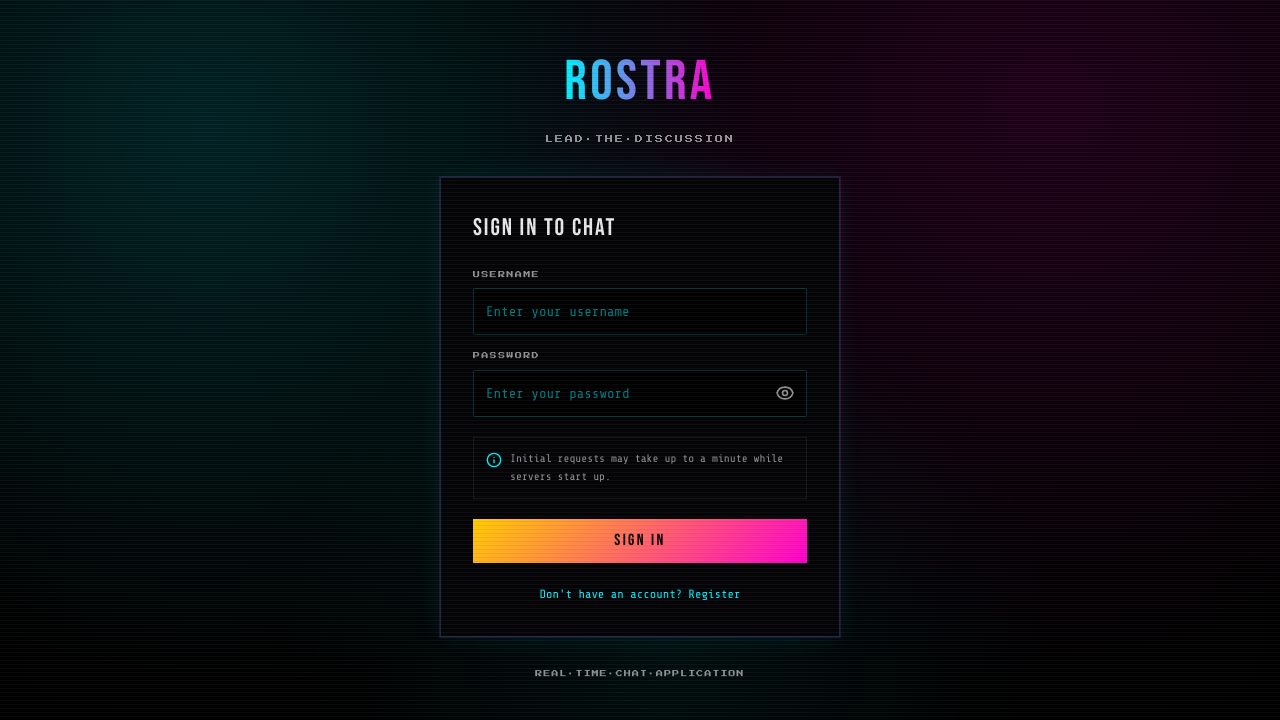
Login › shows API error message for invalid credentials
Type "alice" into the field labelled "USERNAME" at (640, 312), box [473,288,807,335]
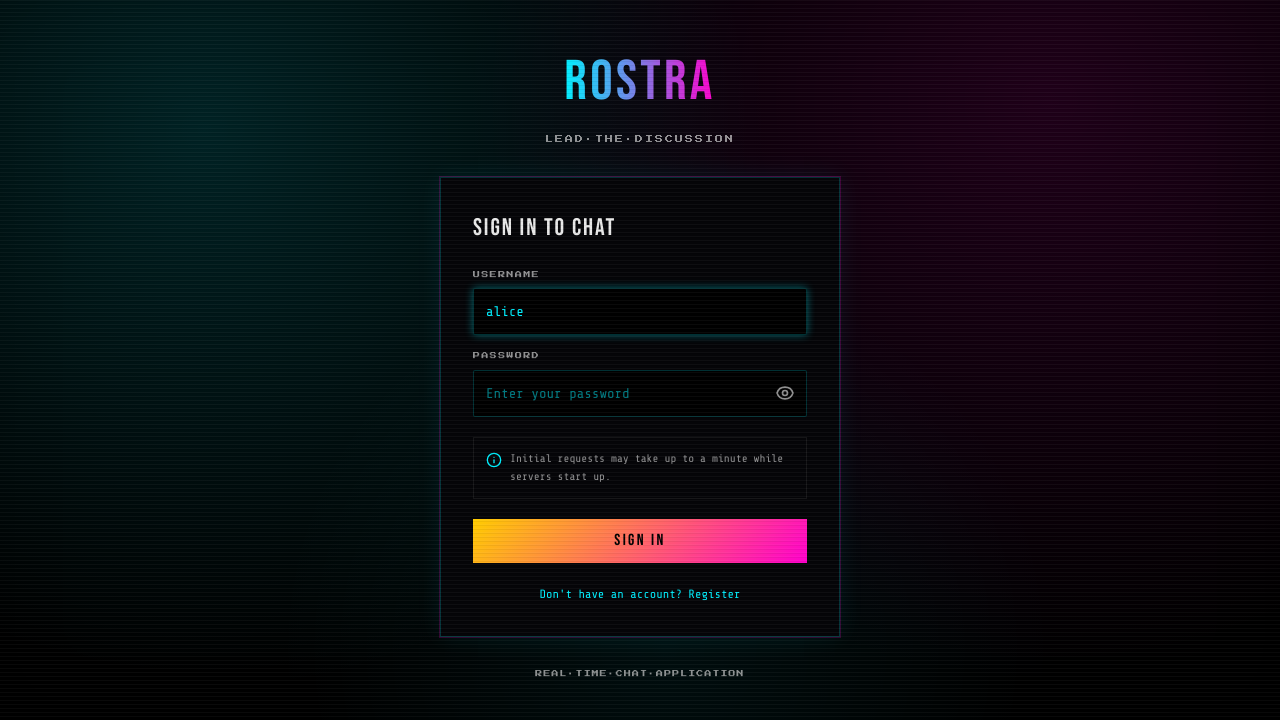
Type "wrong" into the password field labelled "PASSWORD" at (640, 393), box [473,370,807,417]
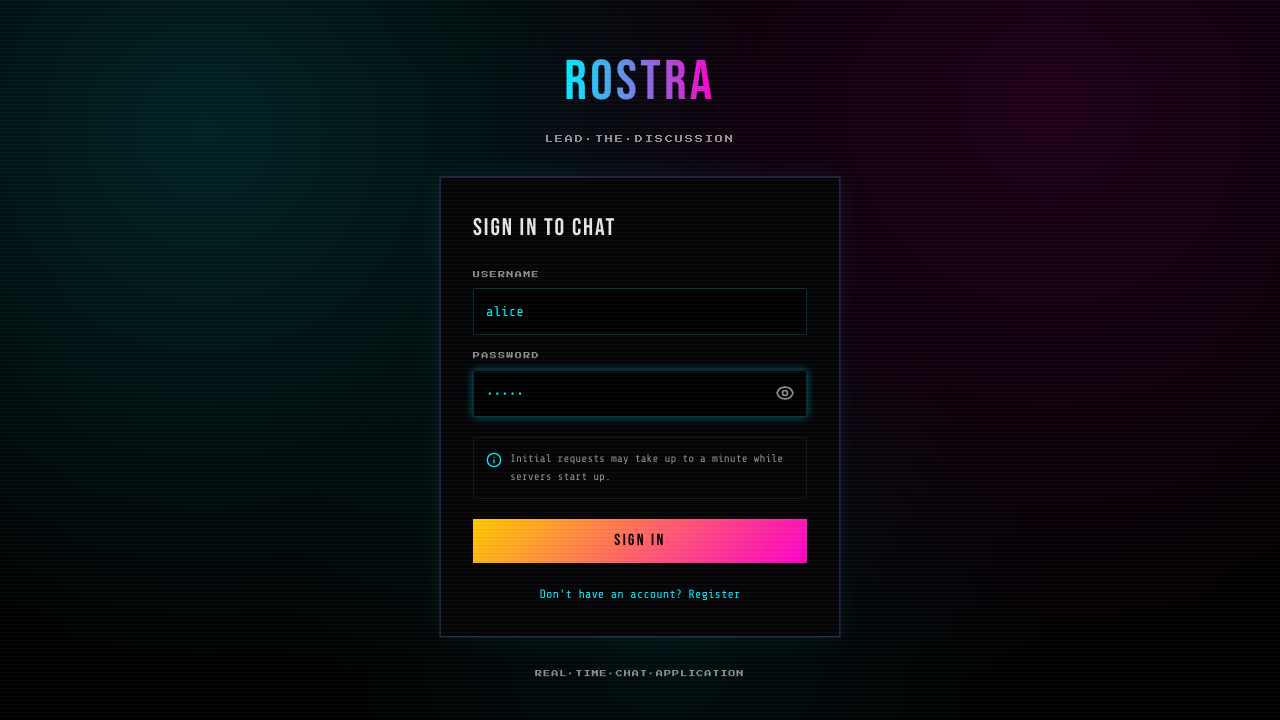
Click the button "SIGN IN" at (640, 541), box [473,519,807,563]
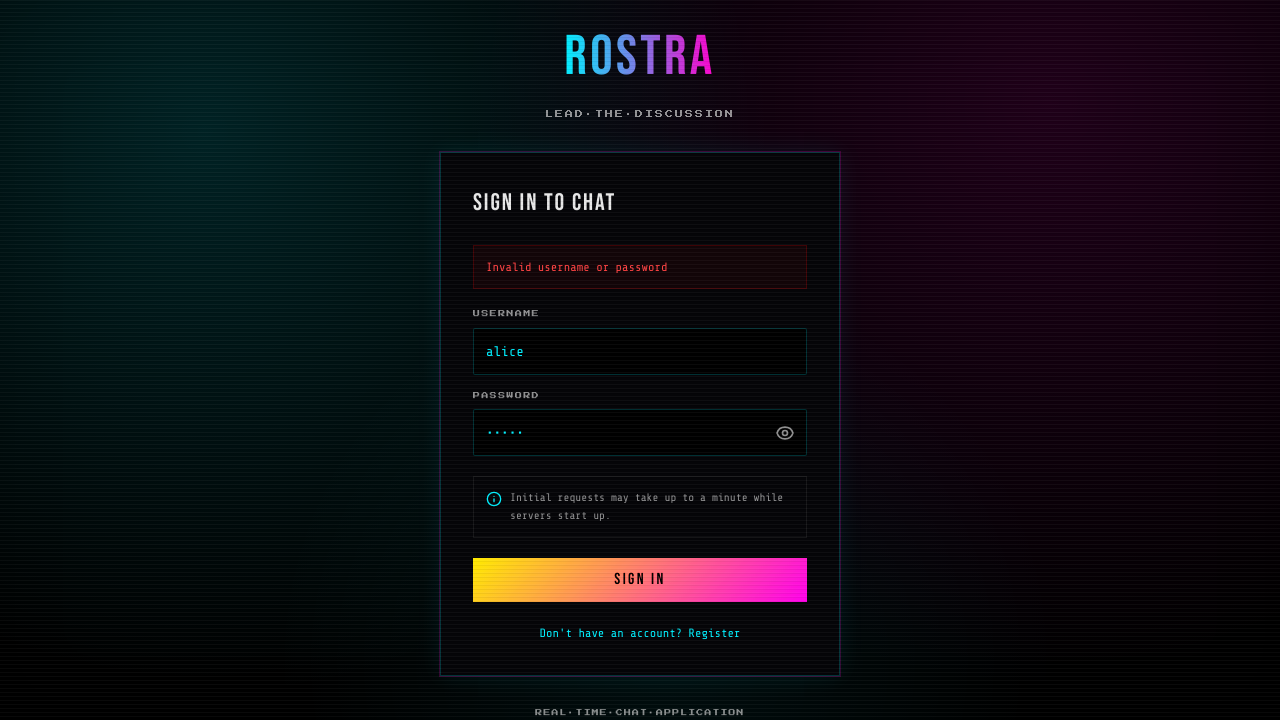
Expected: the text "Invalid username or password" is shown, [473,245,807,289]
